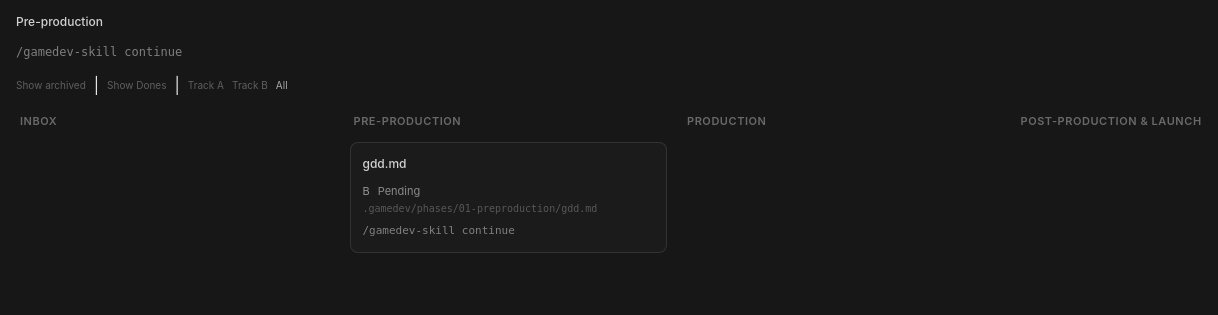
Scenario: GameBoardTab › Track B gdd expand shows header only
The width and height of the screenshot is (1218, 315).
Click the button "gdd.md" at [384, 163], box top-left (362, 154), bottom-right (654, 172)
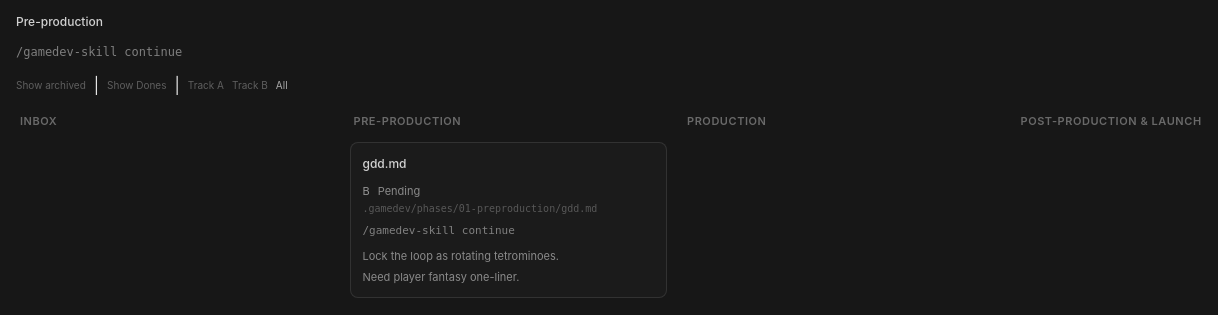
Expected: the element that starts with "gdd.md" does not show "No tasks planned yet", top-left (350, 142), bottom-right (667, 298)
Expected: the element that starts with "gdd.md" shows "Lock the loop as rotating tetrominoes.", top-left (362, 249), bottom-right (559, 263)
Expected: the element that starts with "gdd.md" shows "Need player fantasy one-liner.", top-left (362, 270), bottom-right (519, 284)
